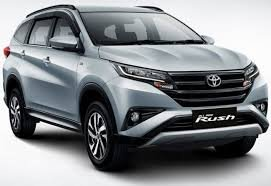mobil: (1, 3, 265, 170)
